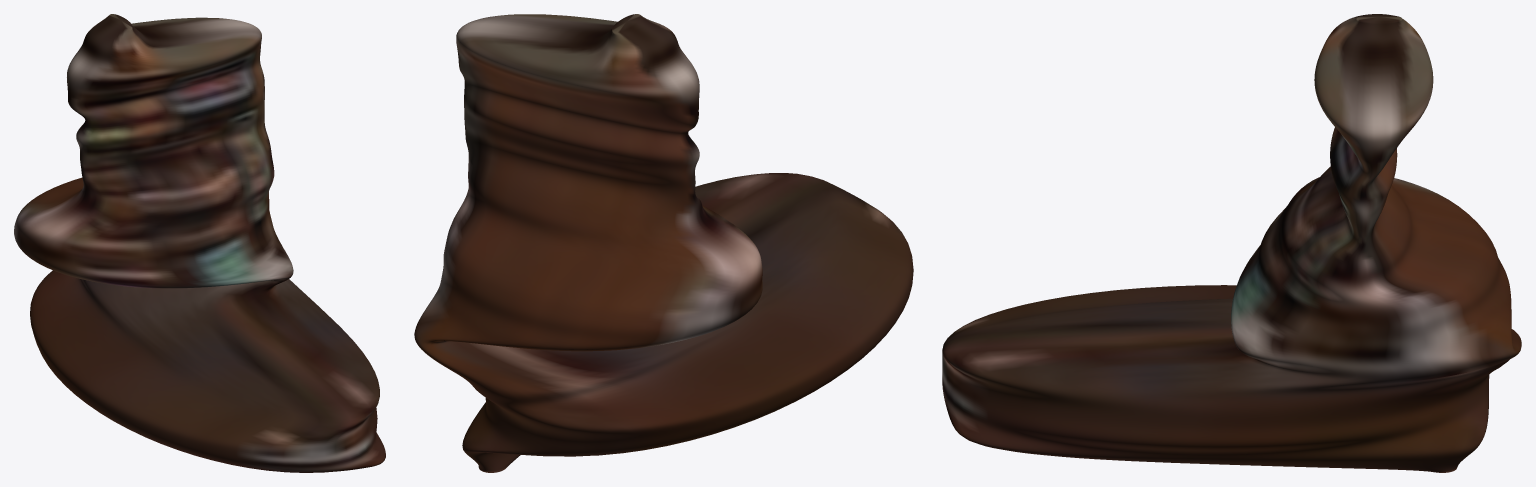
The picture shows the model from 3 angles, left to right: view 1: azimuth 30°, elevation 25°; view 2: azimuth 150°, elevation 25°; view 3: azimuth 270°, elevation 25°; orthographic projection. The views are drawn at different scales.
Parts seen in each view (by area): view 1: hull-M3; view 2: hull-M3; view 3: hull-M3.
Boxes of the visible parts, <box> form: hull-M3: <box>14,14,385,472</box>; hull-M3: <box>414,14,913,472</box>; hull-M3: <box>942,14,1521,472</box>.
Size of the model in its own units: 1.88 by 2.6 by 3.36.
